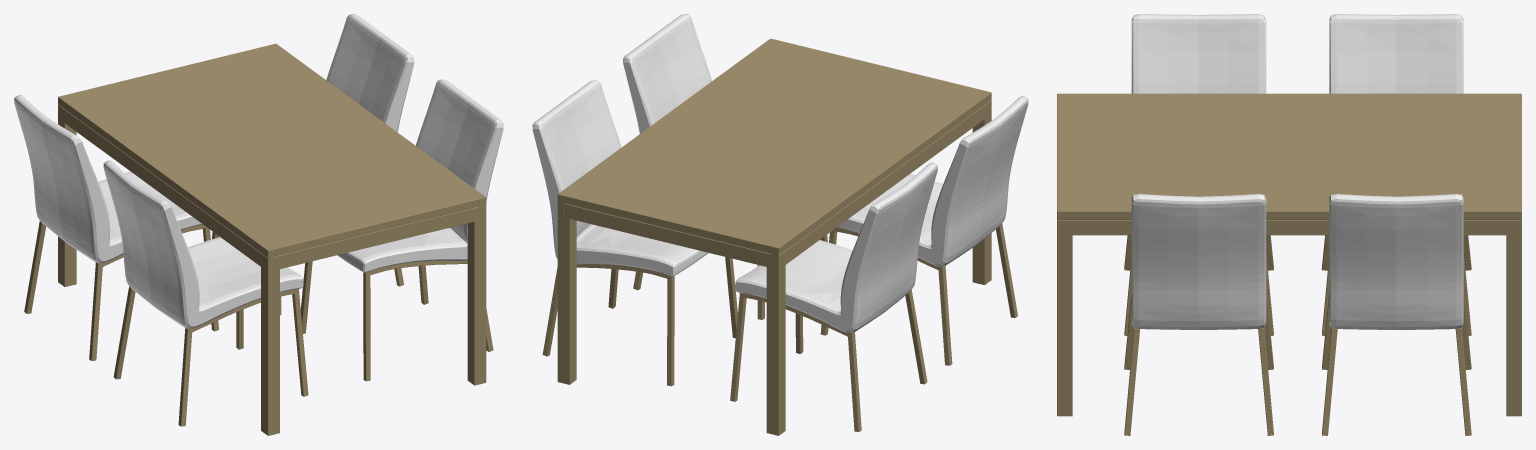
Rendered from diningroom.dae.
3 renders of one model, left to right at view 1: azimuth 30°, elevation 25°; view 2: azimuth 150°, elevation 25°; view 3: azimuth 270°, elevation 25°, orthographic. The views are drawn at different scales.
Visible parts, largest first — view 1: dining_tab (×11); view 2: dining_tab (×11); view 3: dining_tab (×13).
Boxes of the visible parts, x1,y1,x2,y2 form: dining_tab (×11): (14, 14, 503, 435); dining_tab (×11): (532, 14, 1028, 435); dining_tab (×13): (1057, 14, 1521, 435).
Bounding box in the file's own units: 1427 × 1500 × 882.
